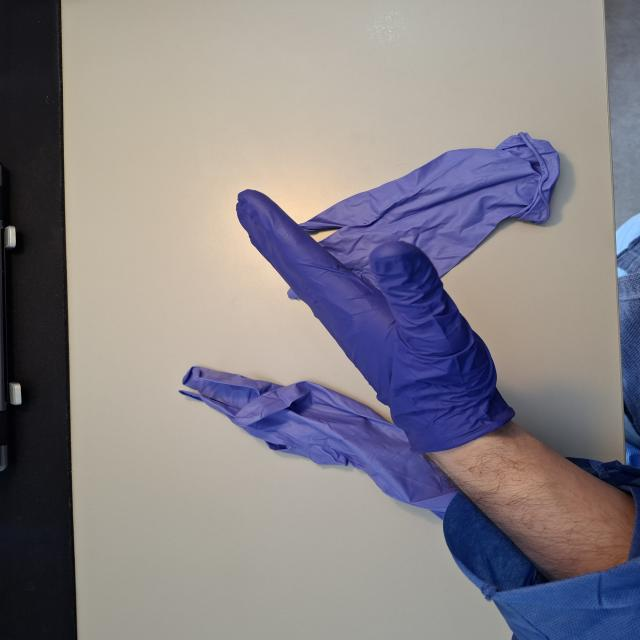glove_on: (234, 186, 504, 452)
